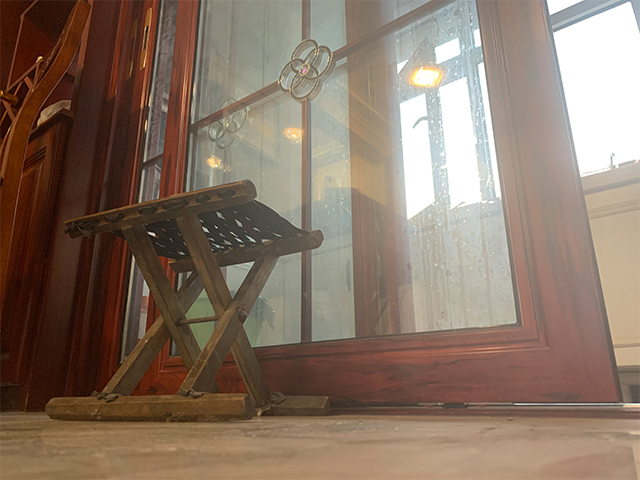stool: (44, 178, 332, 423)
